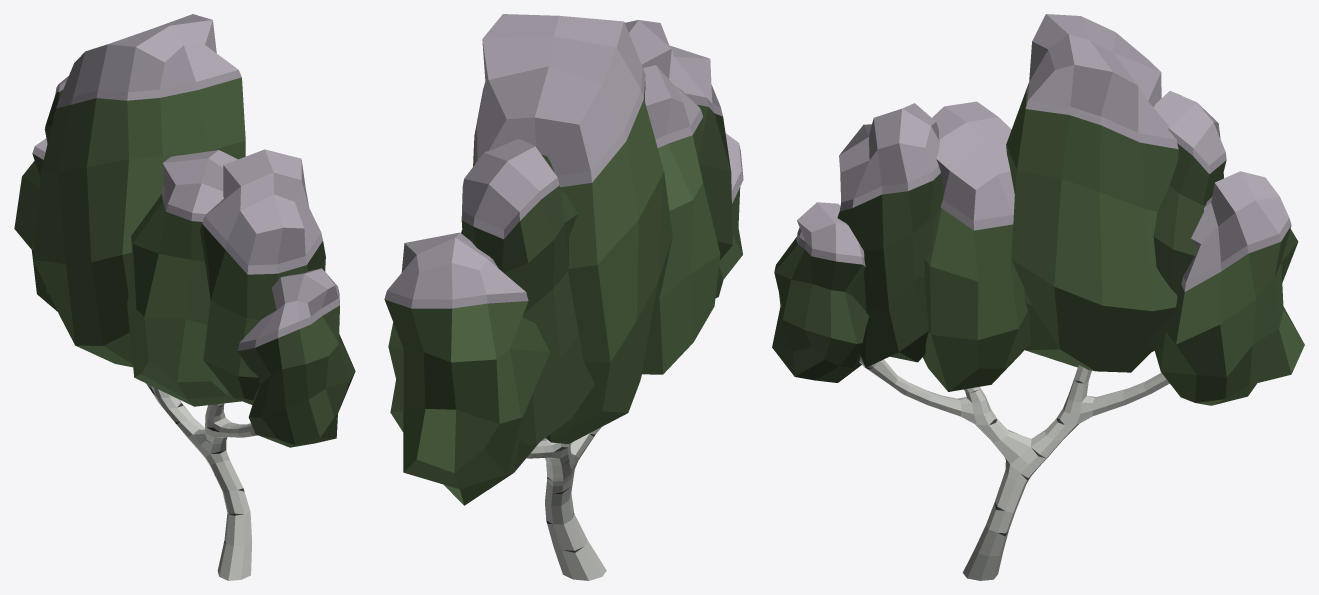
Rendered from birch_snow4.glb.
3 views of the same model, side by side, from view 1: azimuth 30°, elevation 25°; view 2: azimuth 150°, elevation 25°; view 3: azimuth 270°, elevation 25° (orthographic). The views are drawn at different scales.
Parts seen in each view (by area): view 1: BirchTree_Snow_4; view 2: BirchTree_Snow_4; view 3: BirchTree_Snow_4.
Part boxes in pixels (<box>): BirchTree_Snow_4: <box>14,14,355,580</box>; BirchTree_Snow_4: <box>384,14,743,580</box>; BirchTree_Snow_4: <box>772,14,1304,580</box>.
Size of the model in its own units: 1.15 by 3.6 by 3.29.
